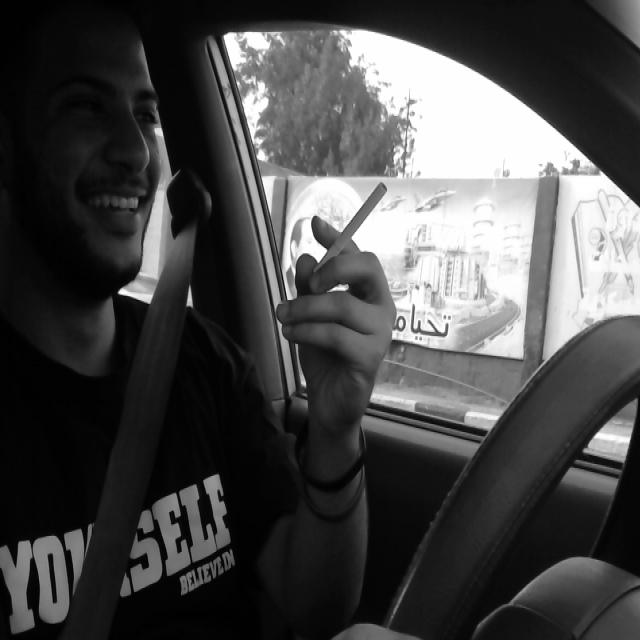smoking: (311, 176, 393, 296)
